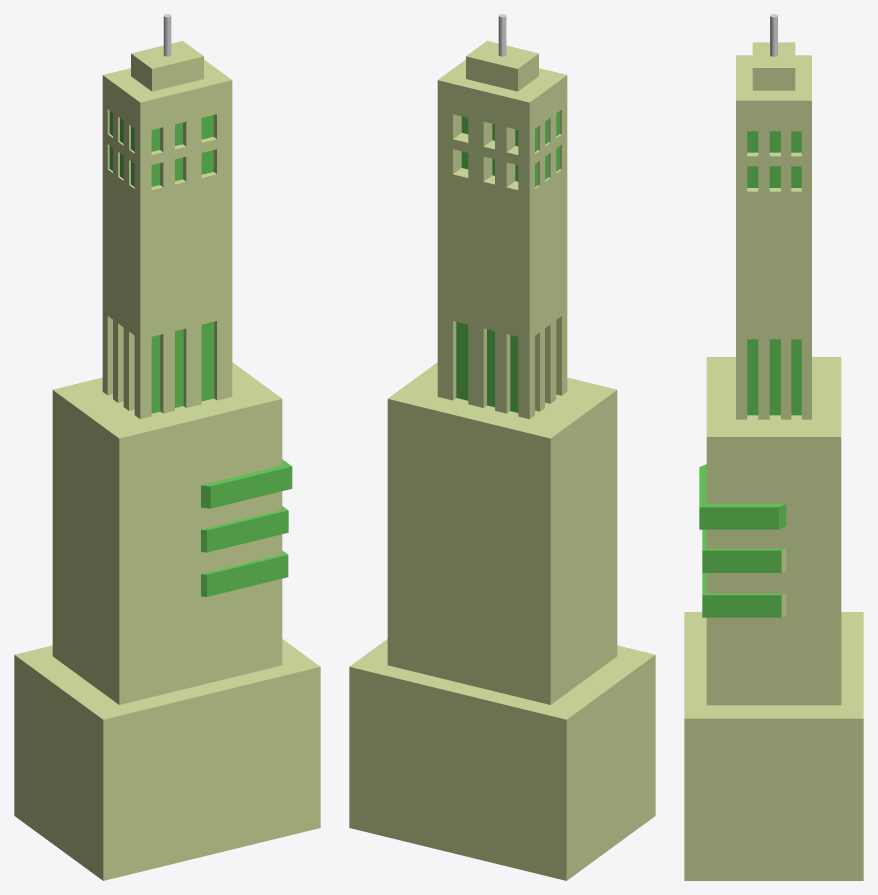
The model's file is skyscrapers5.fbx.
The picture shows the model from 3 angles, left to right: view 1: azimuth 30°, elevation 25°; view 2: azimuth 150°, elevation 25°; view 3: azimuth 270°, elevation 25°; orthographic projection.
Visible parts, largest first — view 1: Cube; view 2: Cube; view 3: Cube.
Boxes of the visible parts, x1,y1,x2,y2 form: Cube: (14,41,320,880); Cube: (349,41,655,880); Cube: (684,42,863,880).
Bounding box in the file's own units: 3.39 × 12.03 × 2.41.
